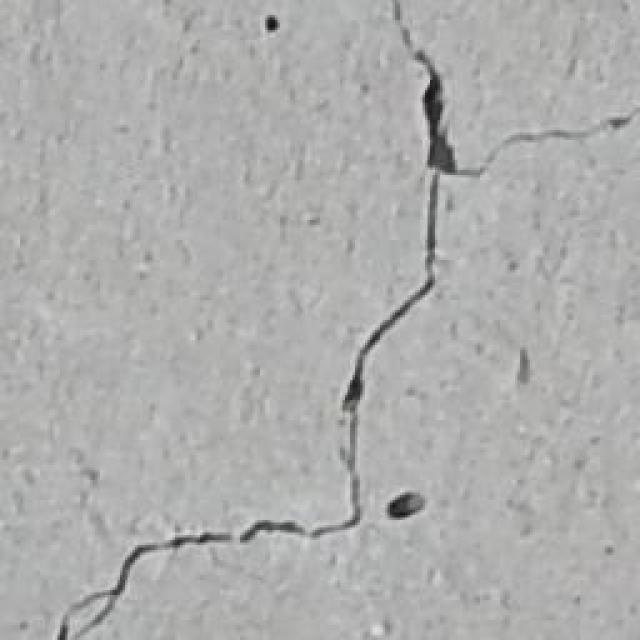concrete-crack: (50, 0, 640, 640), (385, 490, 428, 522)
